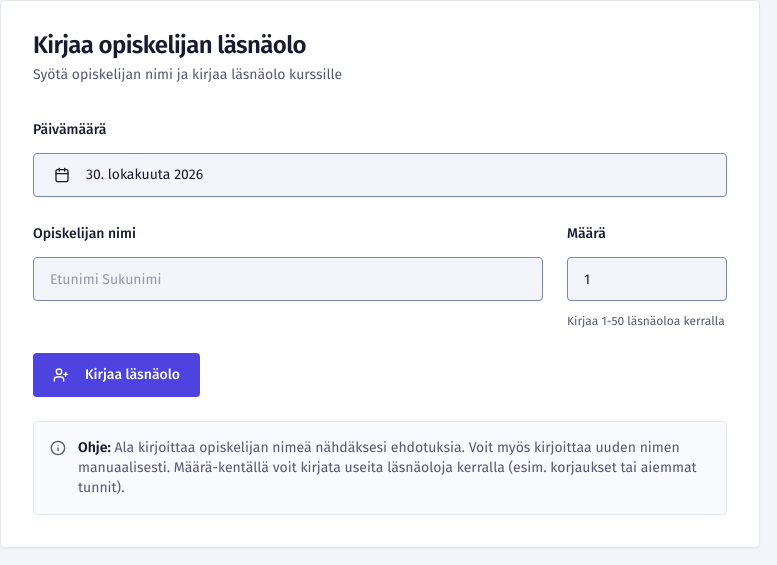
Scenario: AttendanceTracking Component › the suggestion list, driven from the keyboard › presents the field as a combobox owning a listbox
In the dropdown labelled "Opiskelijan nimi": coordinates (288, 279) [33,257,543,301], type "Vä"
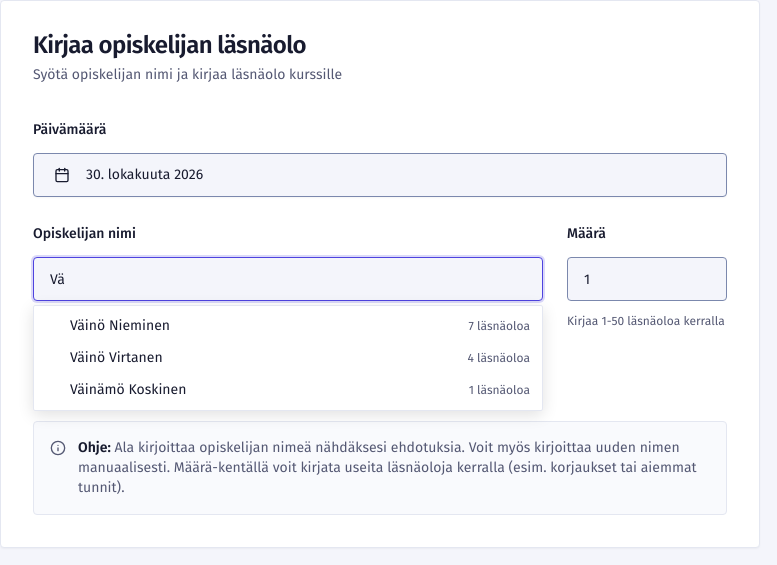
Expected: the number of options is 3, [70,317,530,334]; [70,349,530,366]; [70,381,530,398]
Expected: the dropdown labelled "Opiskelijan nimi" is expanded, [33,257,543,301]
